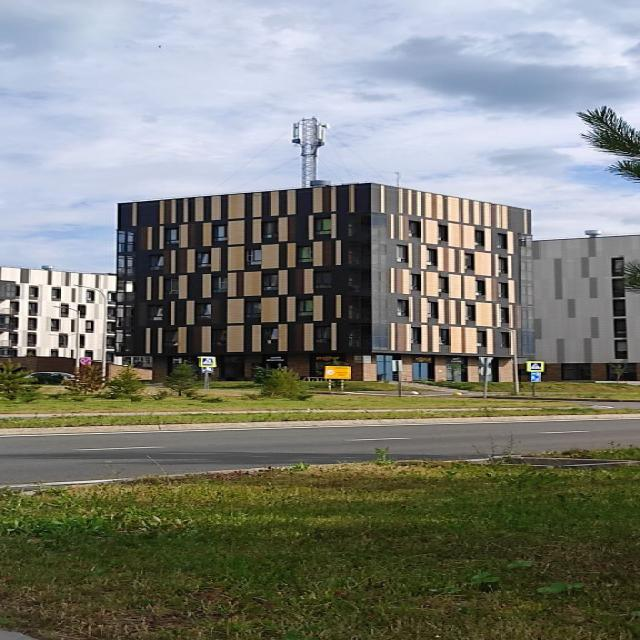Building: (109, 182, 528, 384)
